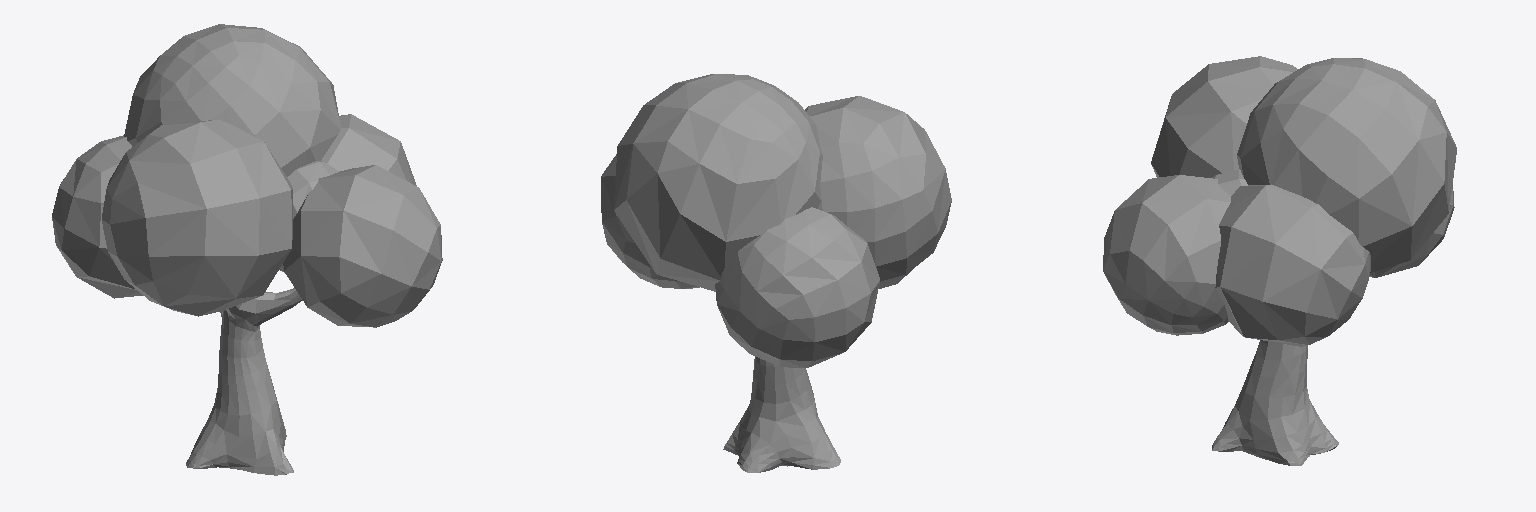
File: Tree_Orange.OBJ
3 renders of one model, left to right at view 1: azimuth 30°, elevation 25°; view 2: azimuth 150°, elevation 25°; view 3: azimuth 270°, elevation 25°, orthographic.
Visible parts, largest first — view 1: Group57589.001; view 2: Group57589.001; view 3: Group57589.001.
Boxes of the visible parts, box(x1,y1,x2,y2) form: Group57589.001: box(52, 24, 442, 475); Group57589.001: box(601, 74, 951, 472); Group57589.001: box(1103, 56, 1456, 465).
Bounding box in the file's own units: 9.17 × 10.95 × 9.07.